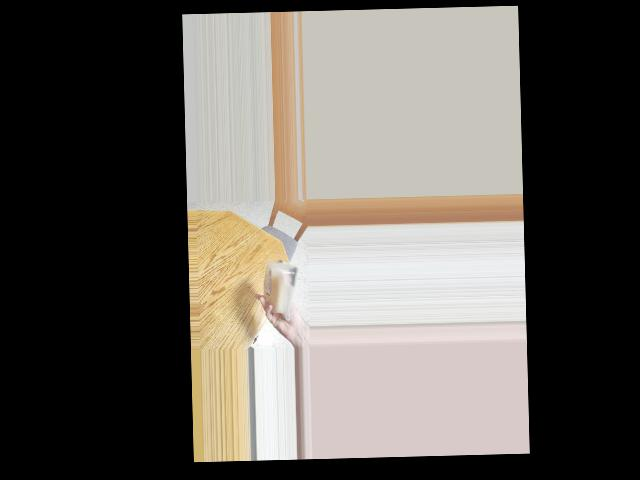cheese: (263, 263, 295, 311)
